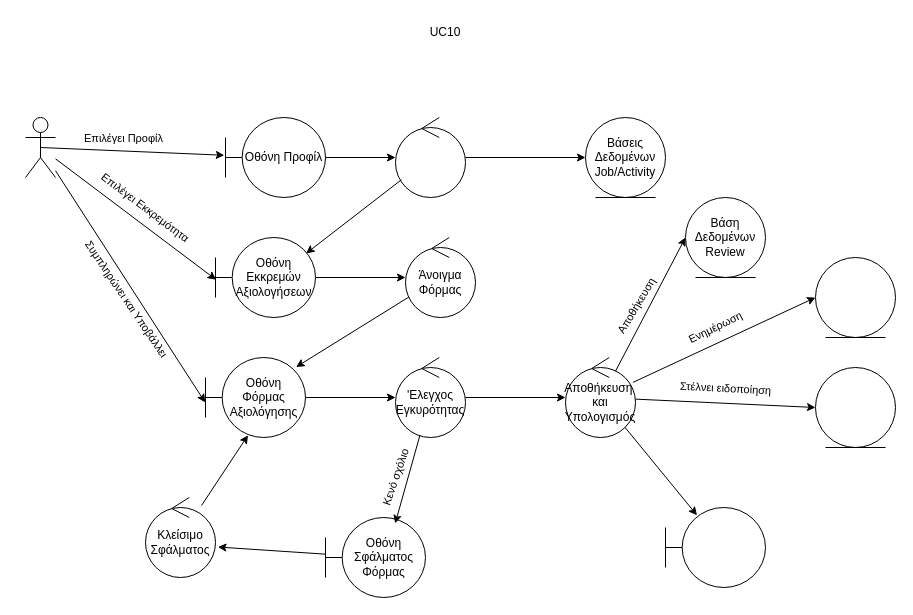
This 913x615 diagram has some shape labels left out. Here are the shapes that lost their labels. From the top down, the box of each, then its label:
(24, 116, 56, 178): Χρήστης
(394, 116, 466, 198): Ανάκτηση Αξιολογήσεων
(814, 256, 896, 338): Βάση Δεδομένων User
(814, 366, 896, 448): Βάση Δεδομένων Notification
(664, 506, 766, 588): Οθόνη Μηνύματος Επιτυχίας
